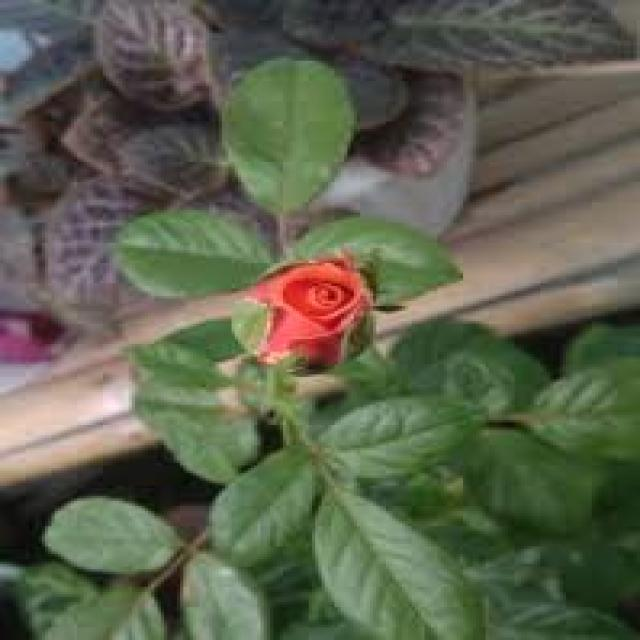Bloomed: (238, 250, 373, 367)
